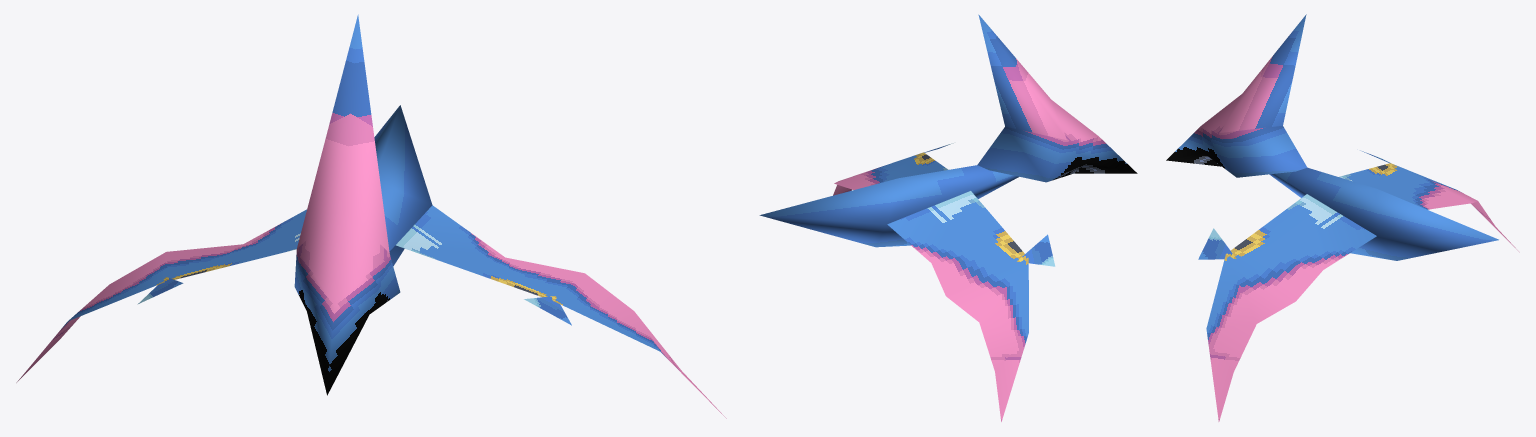
3 views of the same model, side by side, from view 1: azimuth 30°, elevation 25°; view 2: azimuth 150°, elevation 25°; view 3: azimuth 270°, elevation 25° (orthographic). The views are drawn at different scales.
Visible parts, largest first — view 1: 5062musi72_e; view 2: 5062musi72_e; view 3: 5062musi72_e.
Part boxes in pixels (x1,y1,x2,y2): 5062musi72_e: (16, 14, 726, 418); 5062musi72_e: (759, 14, 1137, 421); 5062musi72_e: (1166, 14, 1519, 421).
Size of the model in its own units: 0.406 by 0.3418 by 0.3618.
Materials: 1 (1 with a texture image).
